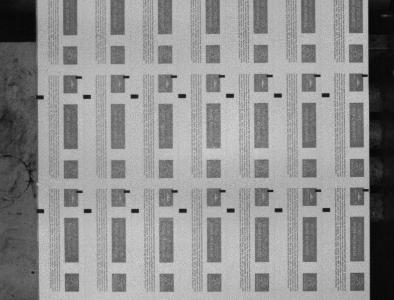backgroundclutter: (36, 182, 39, 186)
qblock: (322, 207, 331, 212), (131, 208, 139, 213), (179, 208, 187, 213), (227, 208, 235, 213), (83, 94, 91, 99), (274, 93, 282, 98), (226, 93, 234, 98), (130, 94, 139, 98), (178, 94, 187, 98), (84, 209, 92, 213), (275, 208, 283, 212), (322, 93, 330, 97), (36, 95, 44, 99), (37, 209, 44, 213)
smallqblock: (123, 75, 130, 79), (220, 189, 226, 193), (219, 75, 226, 78), (77, 190, 83, 193), (124, 190, 130, 193), (268, 189, 274, 192), (172, 190, 178, 193), (316, 189, 322, 192), (76, 76, 82, 79), (171, 75, 177, 78), (315, 74, 321, 77), (267, 74, 273, 77), (363, 74, 369, 77), (363, 189, 370, 191)
